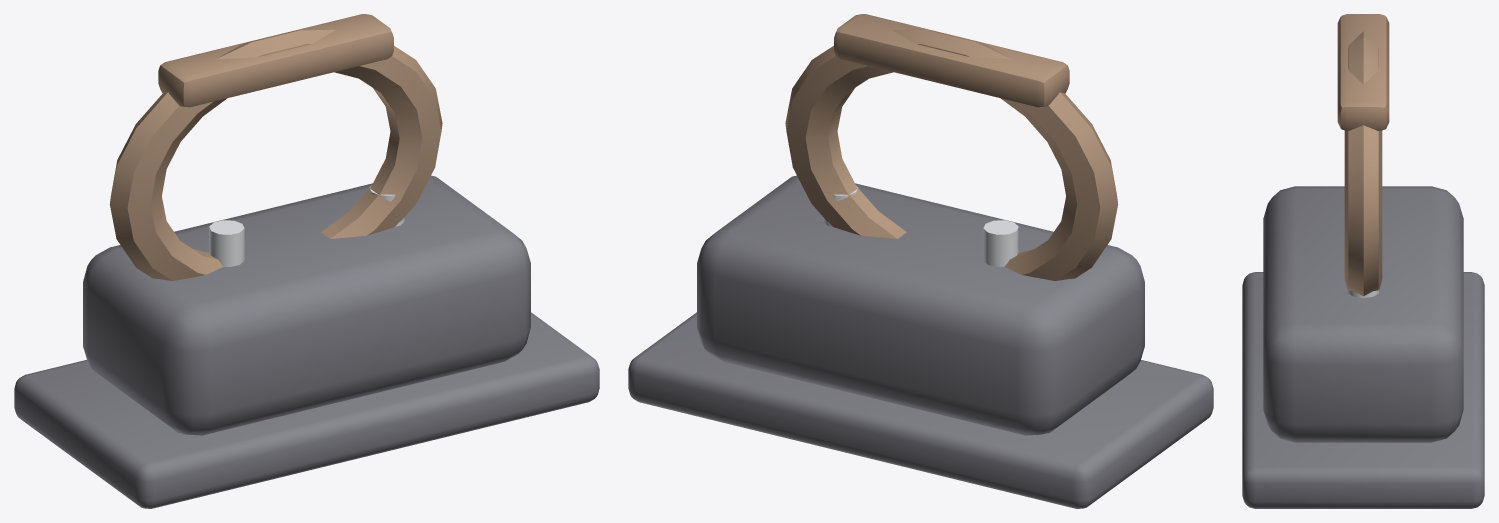
Rendered from iron.glb.
3 views of the same model, side by side, from view 1: azimuth 30°, elevation 25°; view 2: azimuth 150°, elevation 25°; view 3: azimuth 270°, elevation 25° (orthographic). The views are drawn at different scales.
Parts seen in each view (by area): view 1: iron; view 2: iron; view 3: iron.
Boxes of the visible parts, box(x1,y1,x2,y2) form: iron: box(14, 14, 599, 508); iron: box(628, 14, 1213, 508); iron: box(1242, 14, 1484, 508).
Size of the model in its own units: 0.15 by 0.1186 by 0.075.
